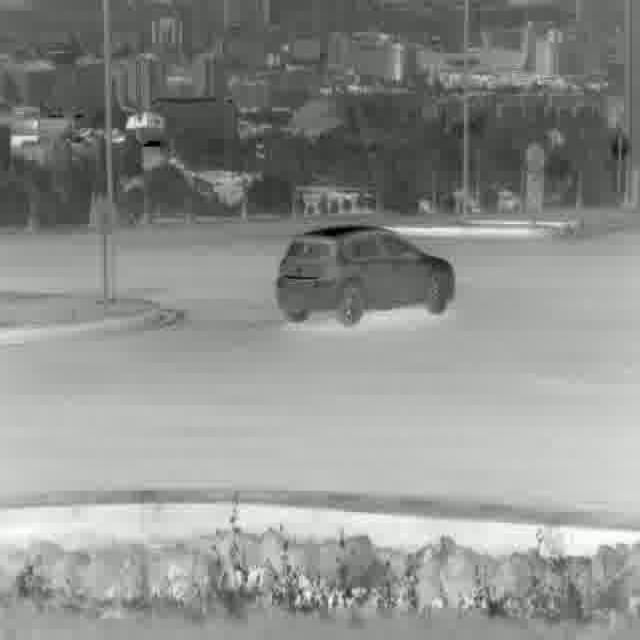Car: (273, 224, 459, 324)
